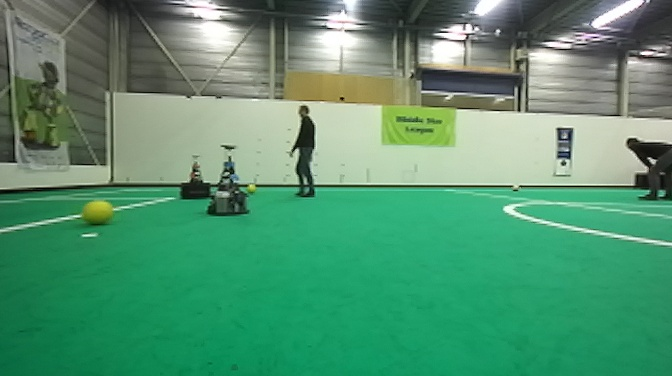ball: (78, 199, 115, 228), (244, 181, 258, 194), (509, 181, 521, 194)
human: (624, 134, 672, 202), (286, 104, 319, 199)
robot: (203, 143, 250, 217), (177, 153, 215, 201)
